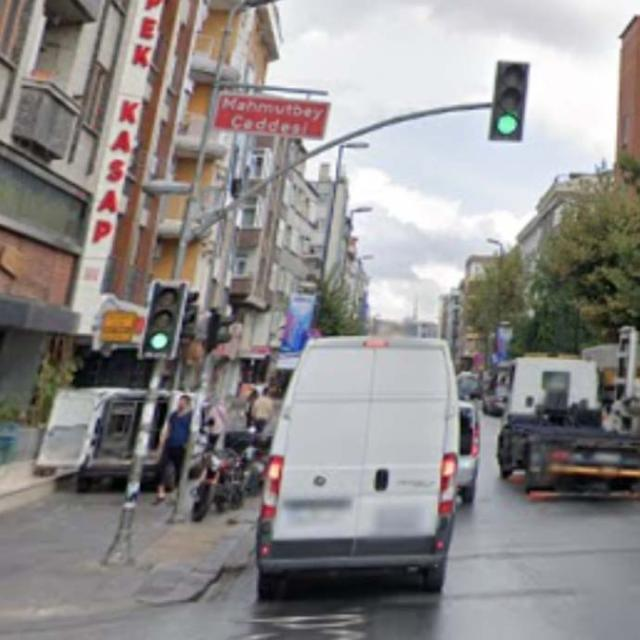yesil: (493, 61, 525, 142), (146, 282, 180, 358)
